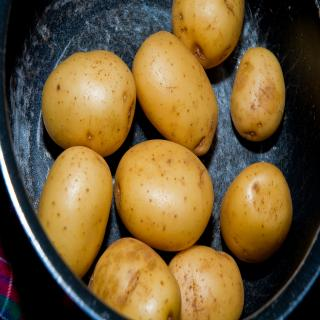Potato: (87, 238, 181, 320)
